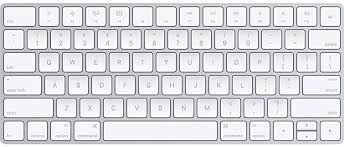keyboard: (3, 0, 344, 147)
